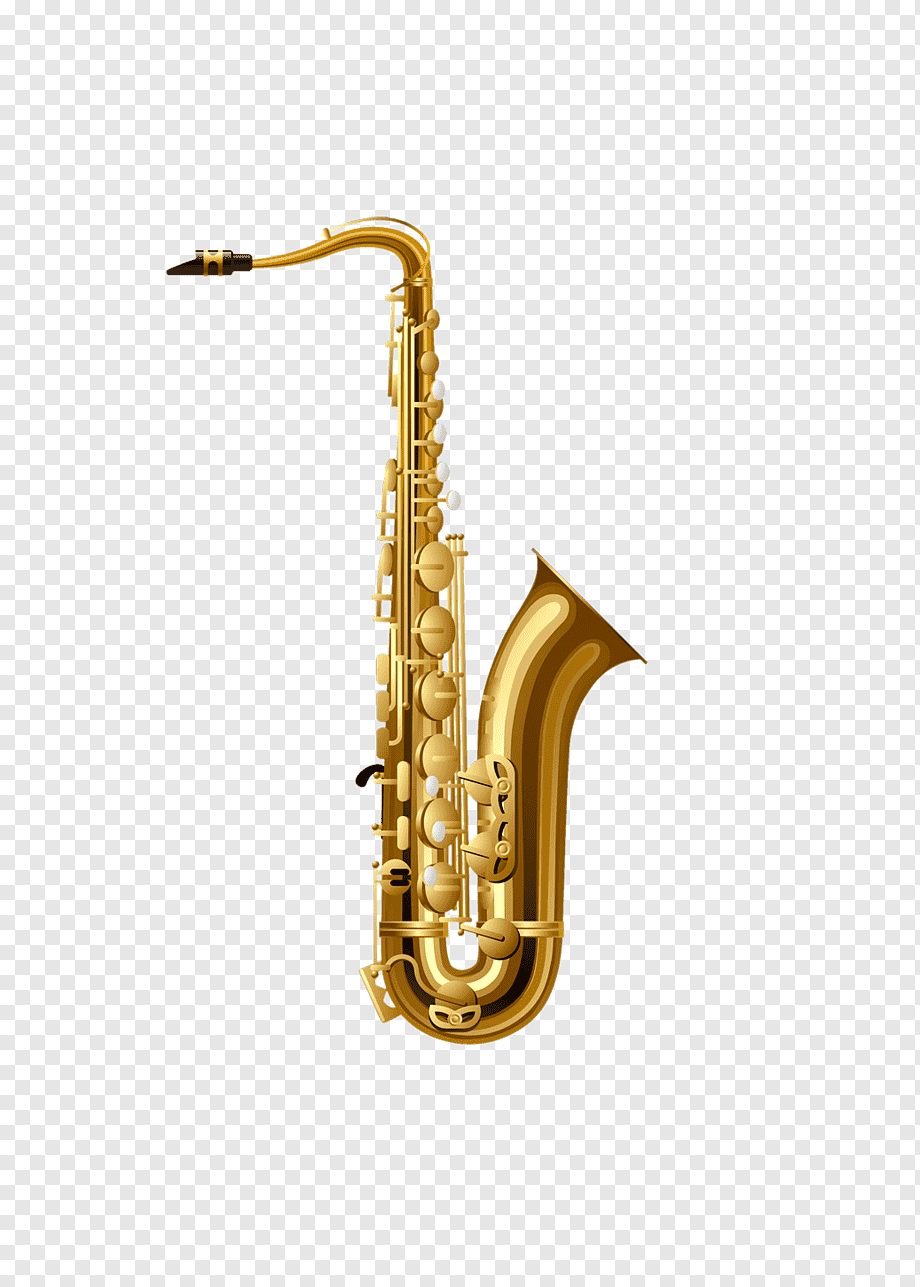Saxophone: (73, 184, 918, 1131)
